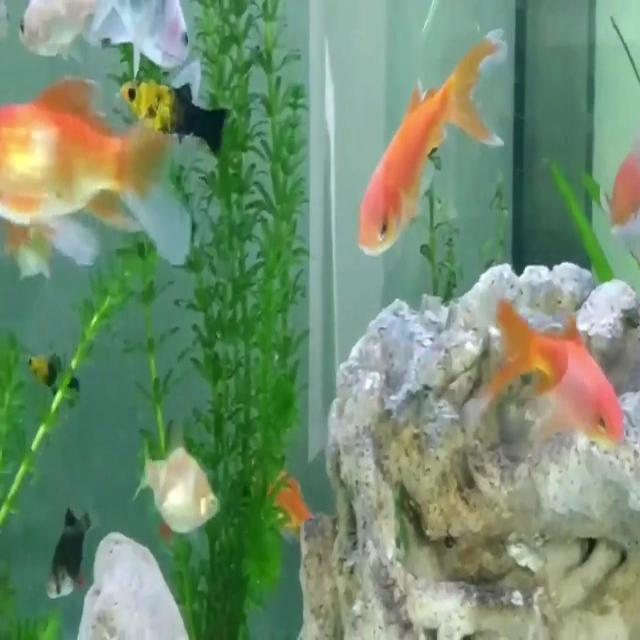GoldFish: (348, 14, 510, 272), (2, 77, 184, 272), (473, 286, 631, 470)
